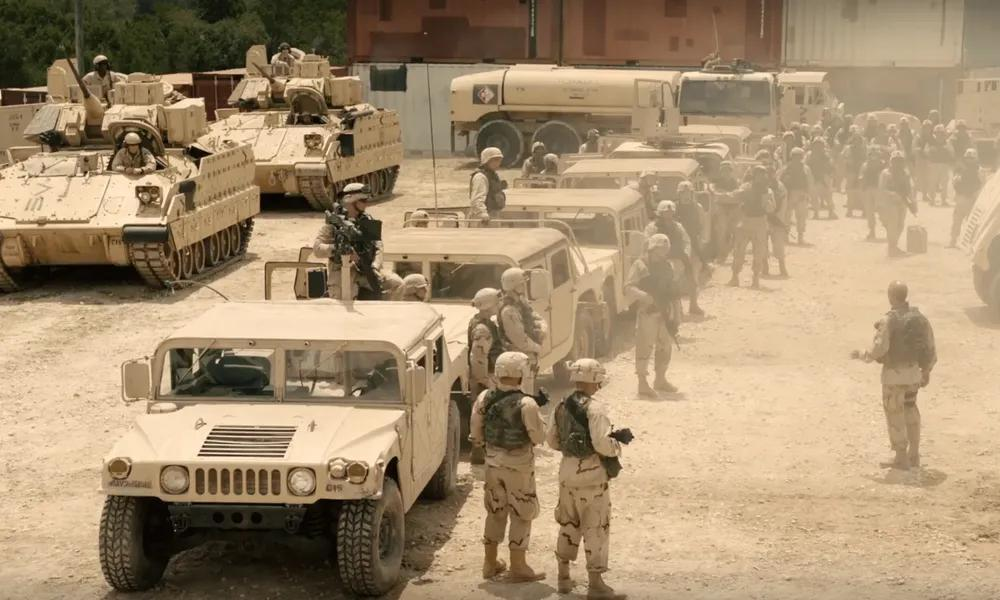MIL_IFV: (0, 53, 266, 294), (221, 43, 405, 205)
